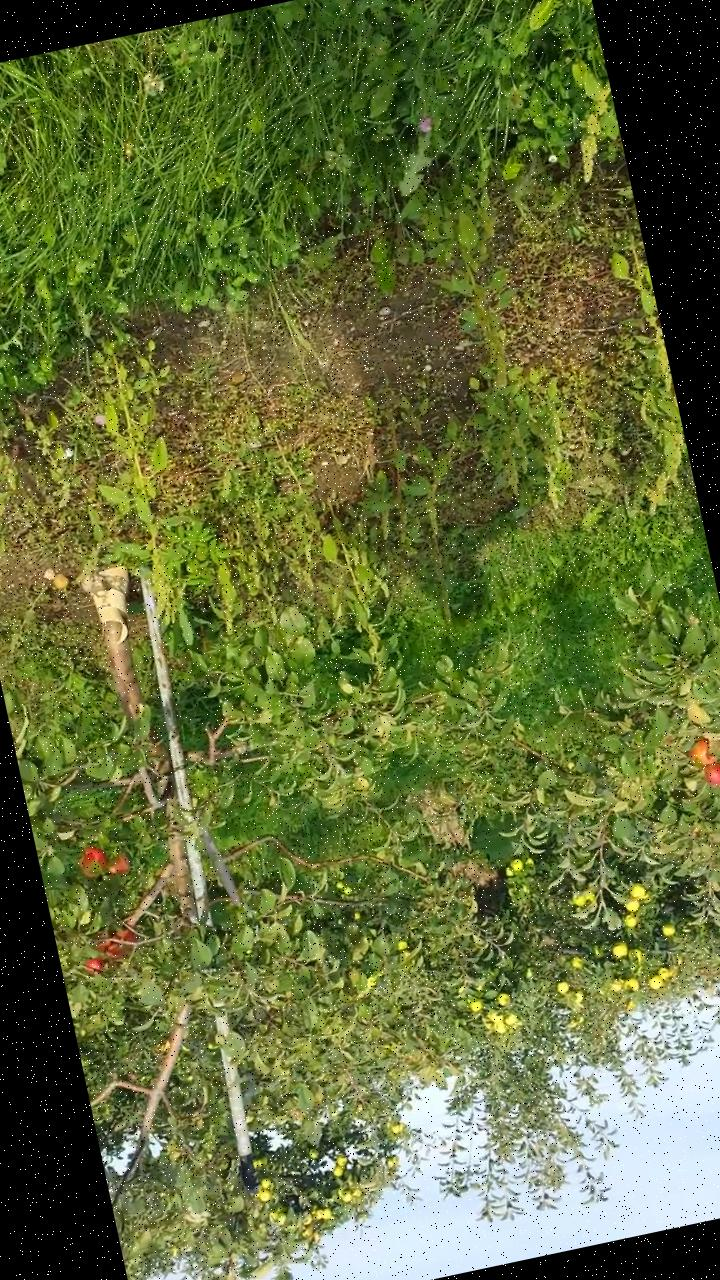Apple: (94, 936, 132, 964), (686, 736, 715, 768), (80, 845, 110, 874), (112, 924, 138, 950), (106, 855, 130, 878), (702, 760, 719, 790), (85, 956, 105, 974)
